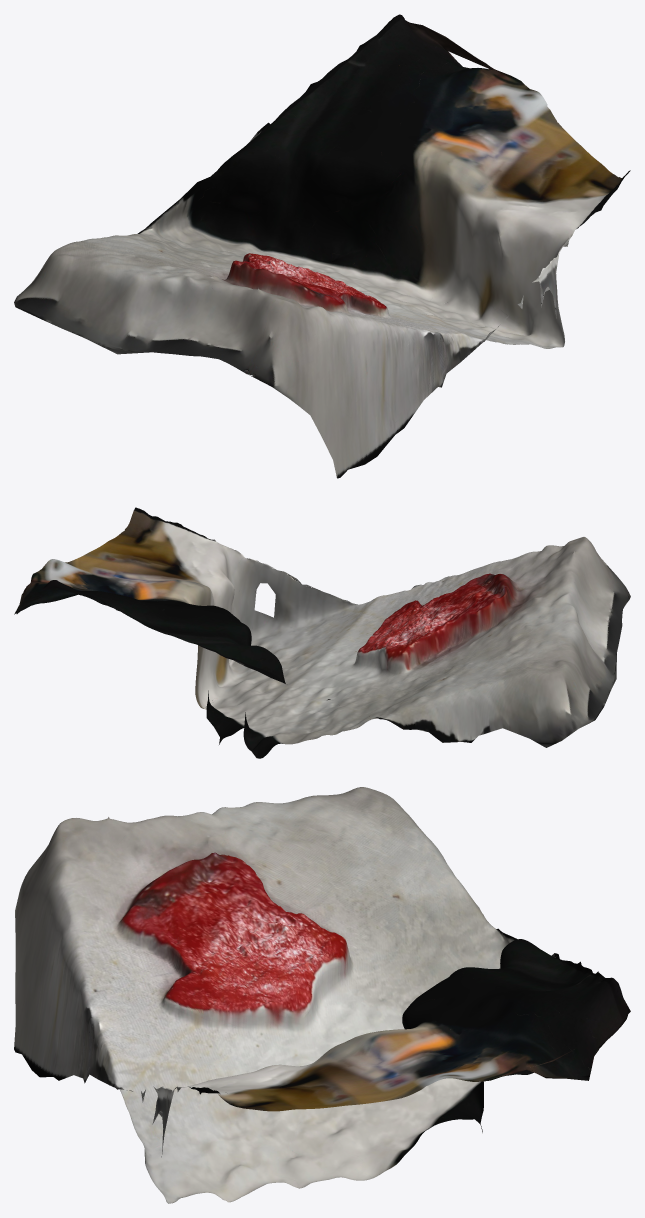
3 renders of one model, top to bottom at view 1: azimuth 30°, elevation 25°; view 2: azimuth 150°, elevation 25°; view 3: azimuth 270°, elevation 25°, orthographic. The views are drawn at different scales.
Size of the model in its own units: 0.808 by 0.2914 by 0.6417.
Materials: 1 (1 with a texture image).
